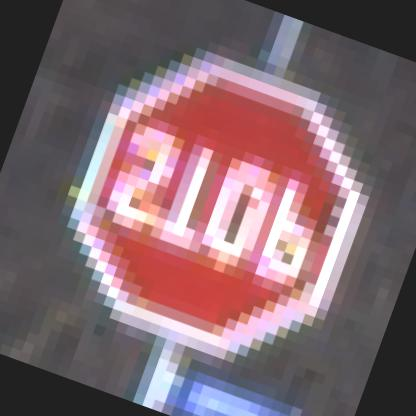stop: (34, 5, 414, 415)
